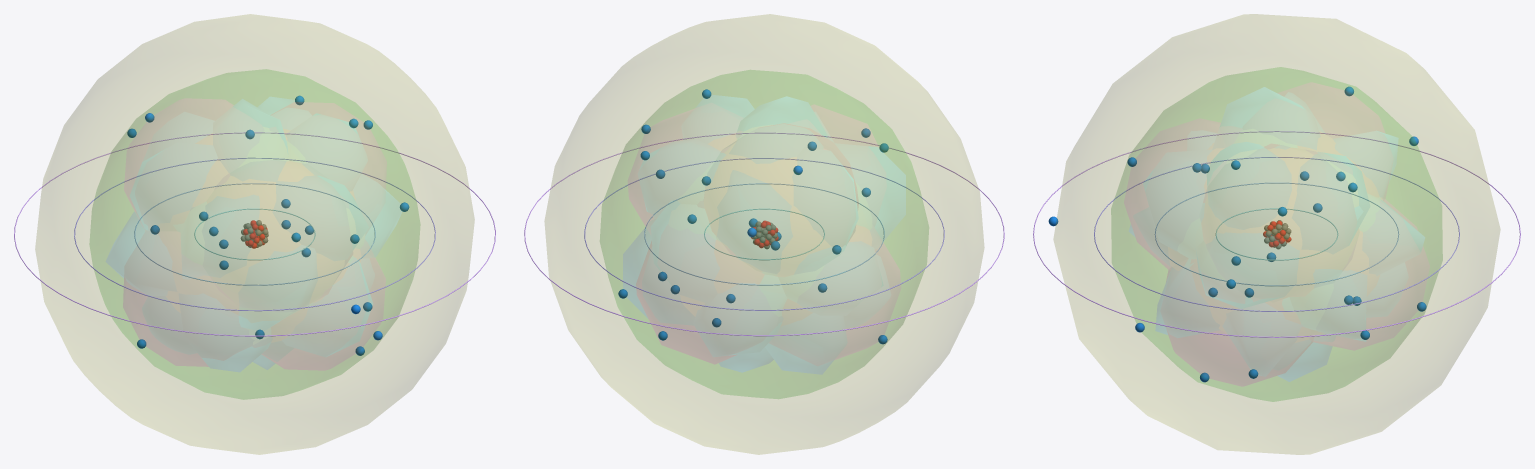
The picture shows the model from 3 angles, left to right: view 1: azimuth 30°, elevation 25°; view 2: azimuth 150°, elevation 25°; view 3: azimuth 270°, elevation 25°; orthographic projection.
Visible parts, largest first — view 1: Orbital_4s_0, Orbital_3s_0, Orbital_3p_2, Orbital_3p_0, Orbital_3d_1, Orbital_3d_2, Nivel_n4, Nivel_n3, Nivel_n2; view 2: Orbital_4s_0, Orbital_3s_0, Orbital_3p_0, Orbital_3p_1, Orbital_3d_3, Orbital_3d_1, Nivel_n4, Orbital_3d_0, Nivel_n3, Nivel_n2, Orbital_3d_4; view 3: Orbital_4s_0, Orbital_3s_0, Orbital_3p_2, Orbital_3p_1, Orbital_3d_1, Nivel_n4, Nivel_n3, Nivel_n2, Orbital_3d_2, Orbital_3d_0.
Part boxes in pixels (<box>): Orbital_4s_0: <box>35,14,474,454</box>; Orbital_3s_0: <box>89,69,420,399</box>; Orbital_3p_2: <box>124,99,385,369</box>; Orbital_3p_0: <box>123,102,386,366</box>; Orbital_3d_1: <box>106,99,401,369</box>; Orbital_3d_2: <box>202,97,368,371</box>; Nivel_n4: <box>14,132,495,336</box>; Nivel_n3: <box>74,157,435,311</box>; Nivel_n2: <box>134,183,375,285</box>; Orbital_4s_0: <box>544,14,984,454</box>; Orbital_3s_0: <box>600,70,928,398</box>; Orbital_3p_0: <box>628,108,900,359</box>; Orbital_3p_1: <box>636,105,877,363</box>; Orbital_3d_3: <box>623,147,905,316</box>; Orbital_3d_1: <box>719,97,882,371</box>; Nivel_n4: <box>524,132,1004,336</box>; Orbital_3d_0: <box>696,95,832,373</box>; Nivel_n3: <box>584,158,944,310</box>; Nivel_n2: <box>644,183,884,285</box>; Orbital_3d_4: <box>651,171,857,282</box>; Orbital_4s_0: <box>1053,14,1500,454</box>; Orbital_3s_0: <box>1111,67,1442,401</box>; Orbital_3p_2: <box>1167,83,1389,385</box>; Orbital_3p_1: <box>1124,119,1429,349</box>; Orbital_3d_1: <box>1197,87,1331,381</box>; Nivel_n4: <box>1033,131,1520,337</box>; Nivel_n3: <box>1094,157,1459,311</box>; Nivel_n2: <box>1154,182,1399,286</box>; Orbital_3d_2: <box>1143,153,1369,242</box>; Orbital_3d_0: <box>1207,142,1263,184</box>.
Size of the model in its own units: 1.2 by 1.1 by 1.2.
